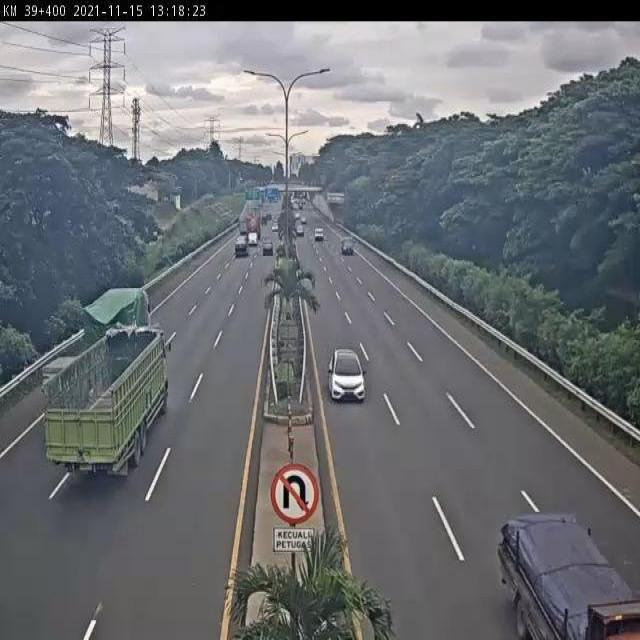car: (328, 348, 369, 405)
truck: (42, 329, 170, 479), (39, 285, 155, 399)
